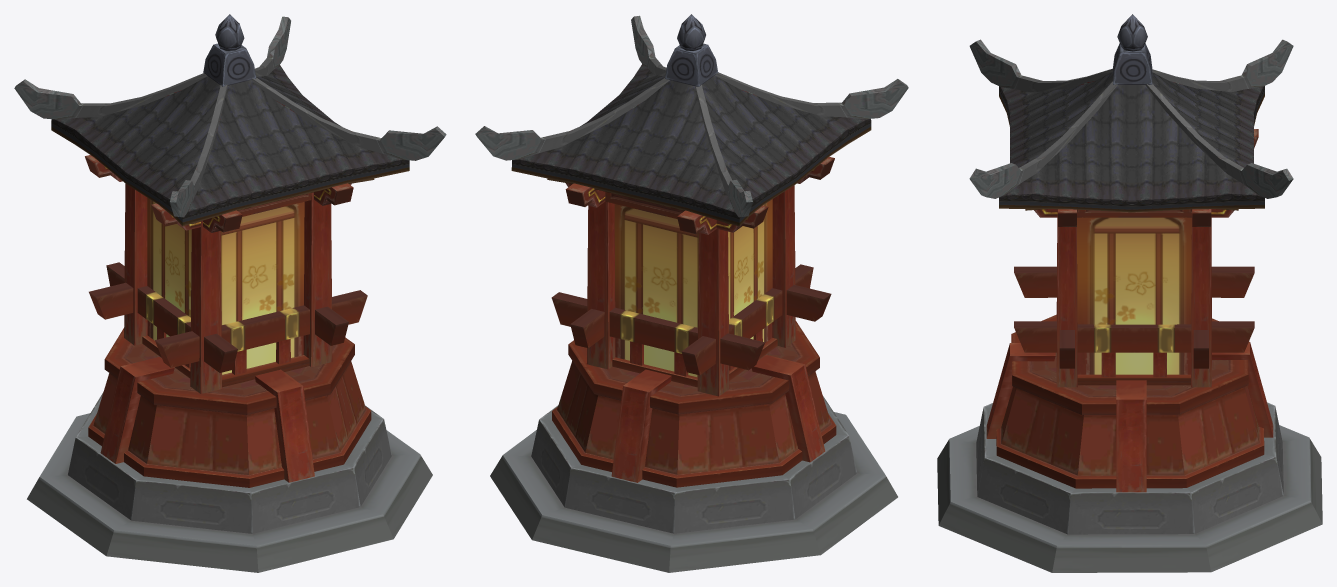
Rendered from ZYbui_CLF_huxinting03.FBX.
The picture shows the model from 3 angles, left to right: view 1: azimuth 30°, elevation 25°; view 2: azimuth 150°, elevation 25°; view 3: azimuth 270°, elevation 25°; orthographic projection.
Parts seen in each view (by area): view 1: ZYbui_CLF_huxinting03; view 2: ZYbui_CLF_huxinting03; view 3: ZYbui_CLF_huxinting03.
Part boxes in pixels (x1=…): ZYbui_CLF_huxinting03: x1=14, y1=14, x2=446, y2=572; ZYbui_CLF_huxinting03: x1=475, y1=14, x2=908, y2=572; ZYbui_CLF_huxinting03: x1=937, y1=14, x2=1322, y2=572.
Size of the model in its own units: 194 by 266 by 194.
